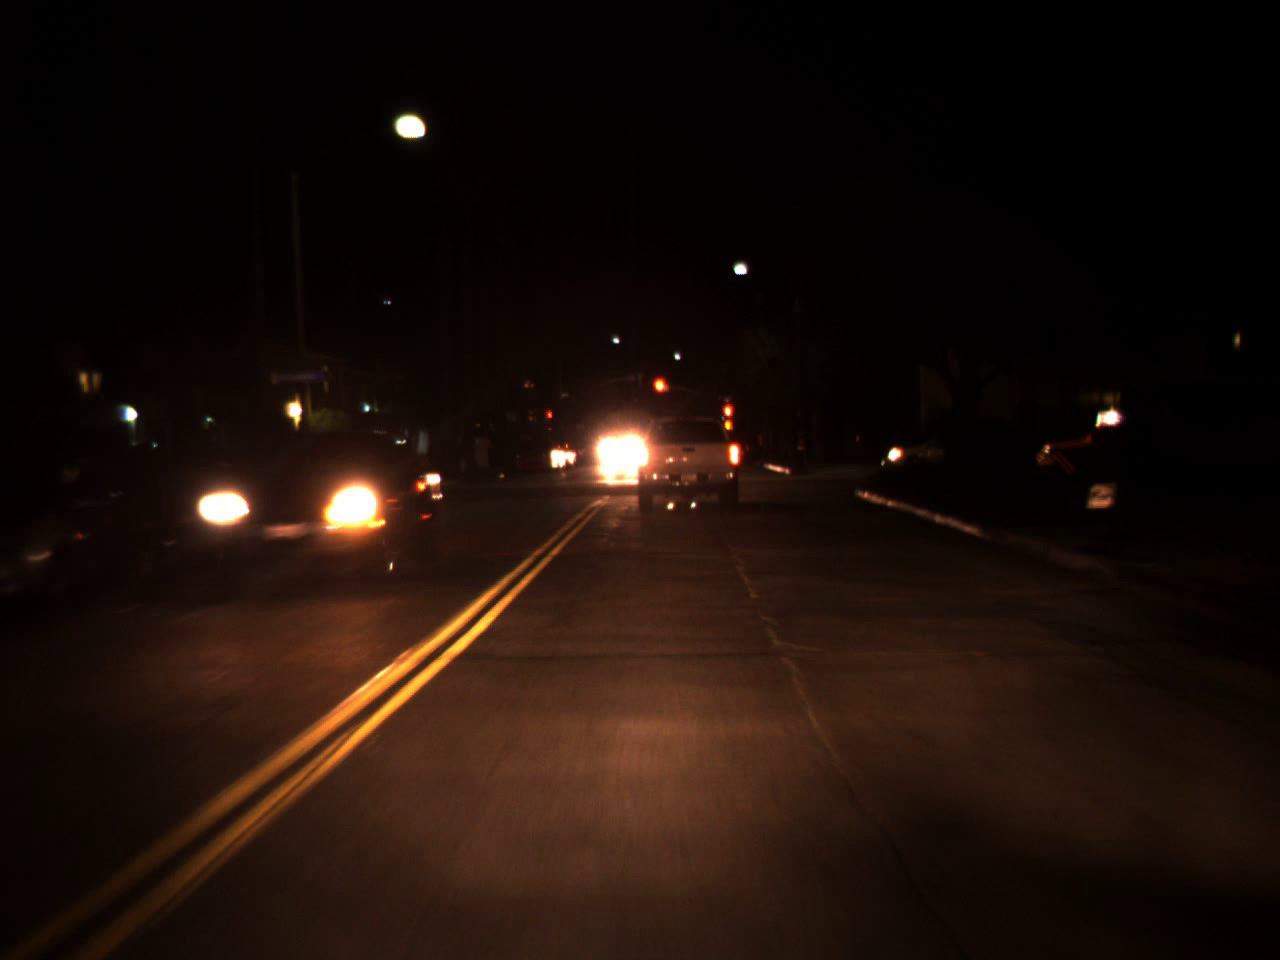stop: (650, 374, 669, 411), (722, 403, 732, 430), (546, 410, 555, 426)
